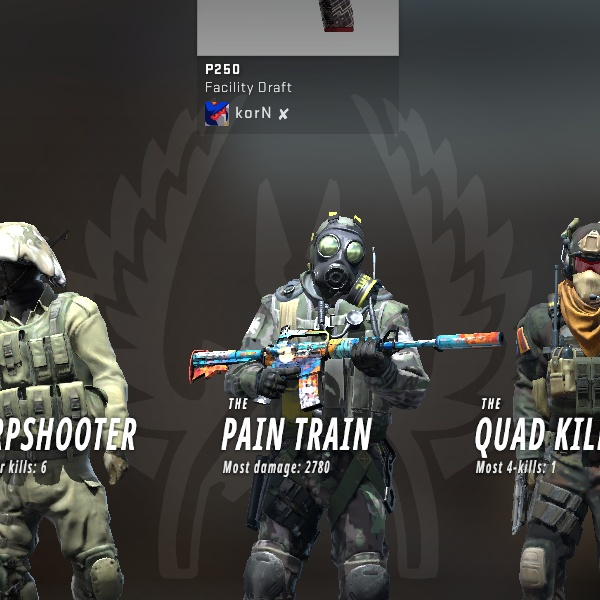ct_body: (217, 210, 415, 586), (0, 198, 156, 600)
ct_head: (0, 213, 67, 324), (548, 211, 600, 316)
